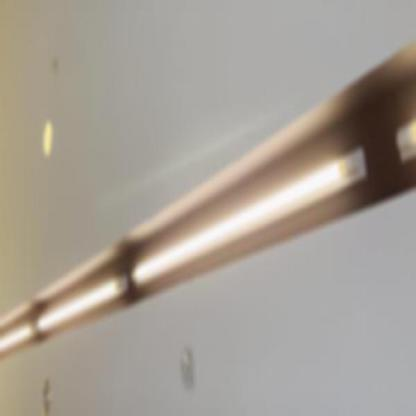light_on: (130, 139, 369, 306), (32, 241, 128, 348), (0, 310, 33, 364), (388, 108, 415, 172)
